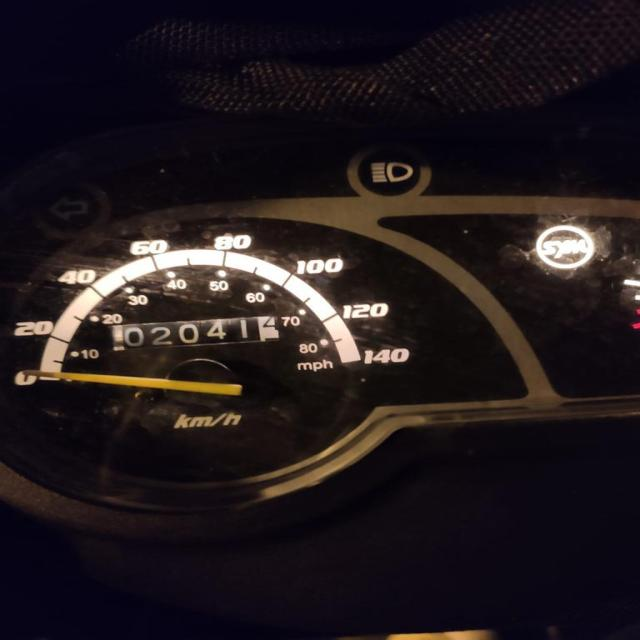odometer: (110, 312, 282, 352)
